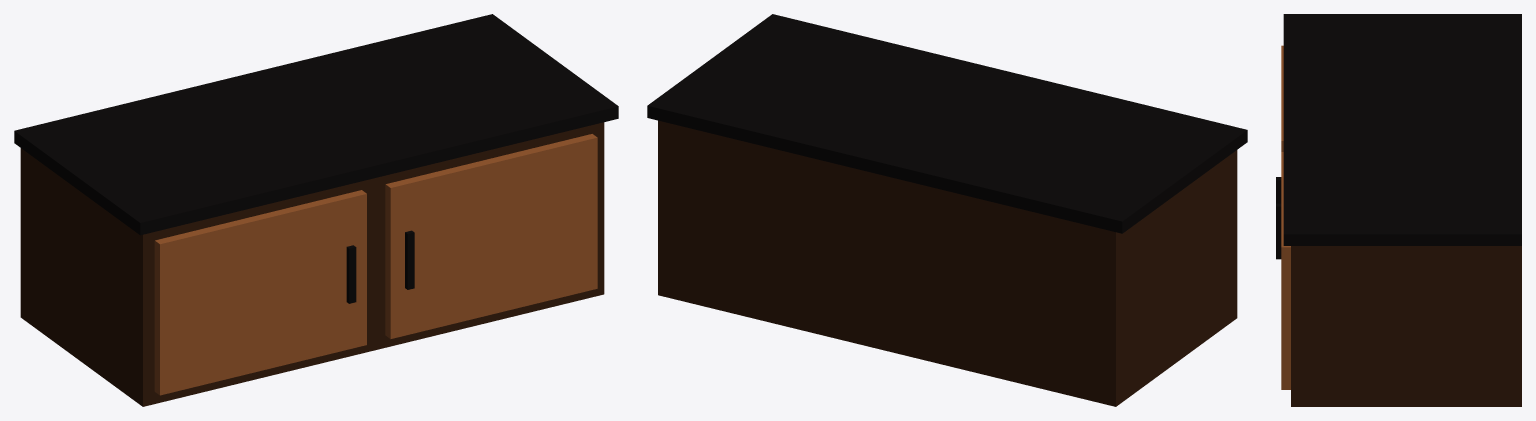
Rendered from cupboard.fbx.
3 renders of one model, left to right at view 1: azimuth 30°, elevation 25°; view 2: azimuth 150°, elevation 25°; view 3: azimuth 270°, elevation 25°, orthographic. The views are drawn at different scales.
Parts seen in each view (by area): view 1: Box014; view 2: Box014; view 3: Box014.
Part boxes in pixels (x1,y1,x2,y2): Box014: [14, 14, 618, 406]; Box014: [647, 14, 1247, 406]; Box014: [1276, 14, 1521, 406].
Bounding box in the file's own units: 263 × 99.08 × 124.
